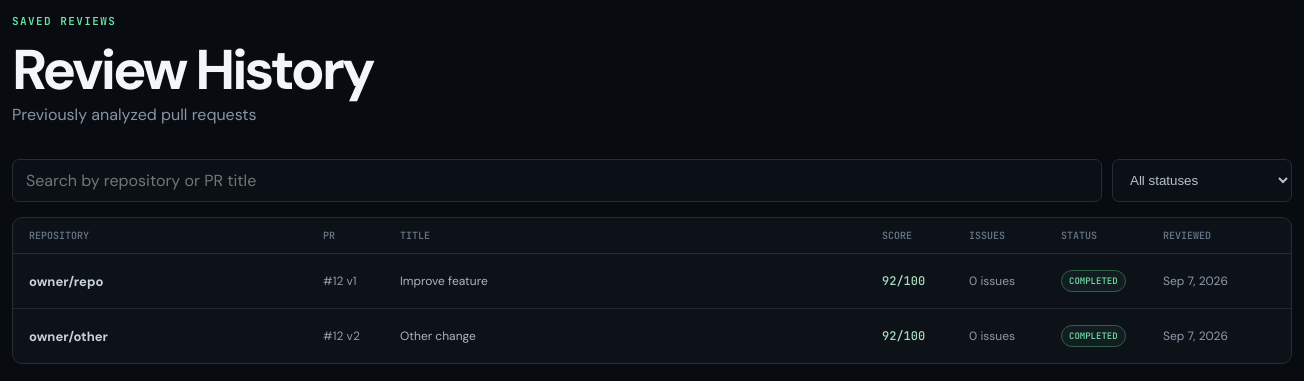
HistoryView › searches saved reviews and displays their versions
Expected: the text "Improve feature" is shown, [400,273,488,289]
Type "other" into the search field with placeholder "Search by repository or PR title". click: (557, 180)
box: [12,159,1102,202]
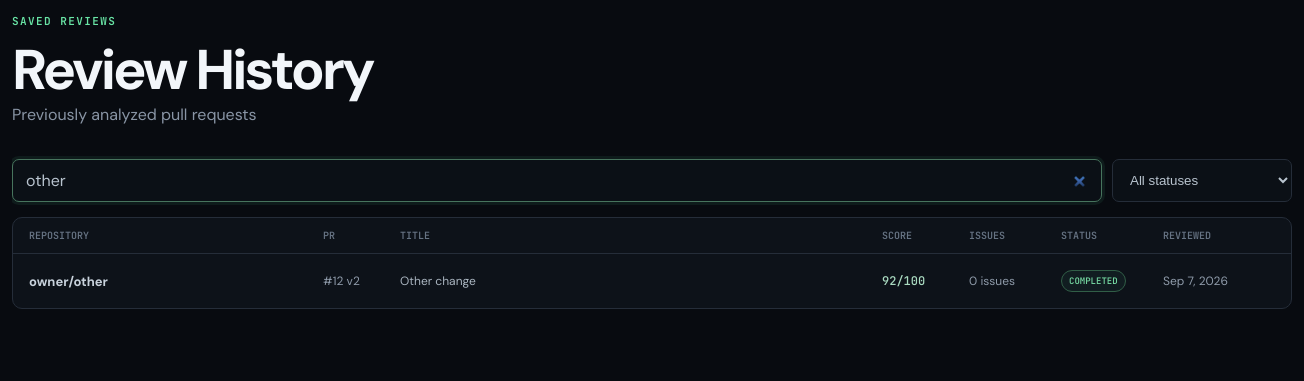
Expected: the text "Other change" is shown, [400,273,476,289]
Expected: the button "Improve feature" is gone
